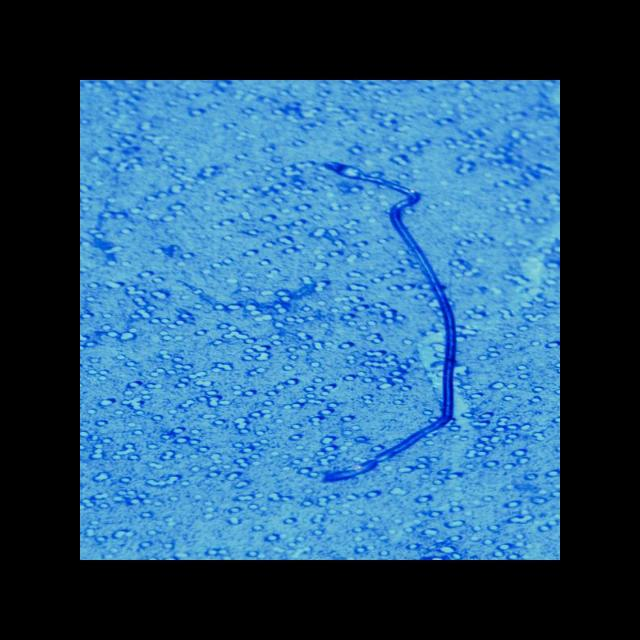Fibre: (314, 161, 458, 484)
